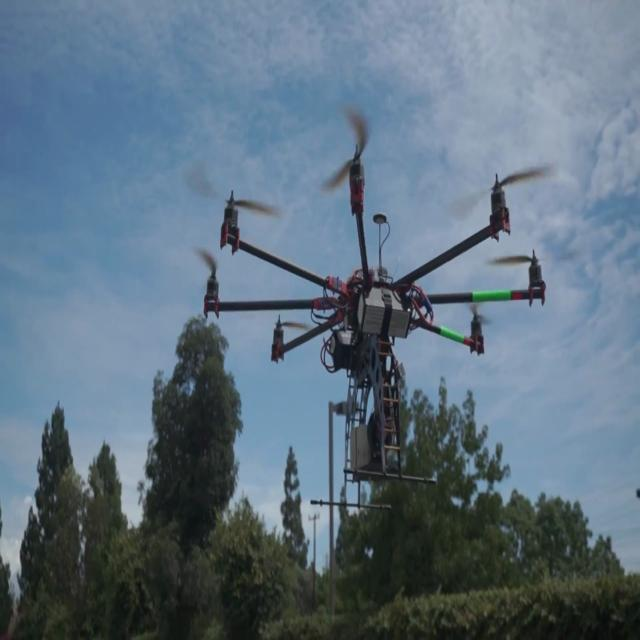drone: (210, 142, 536, 512)
